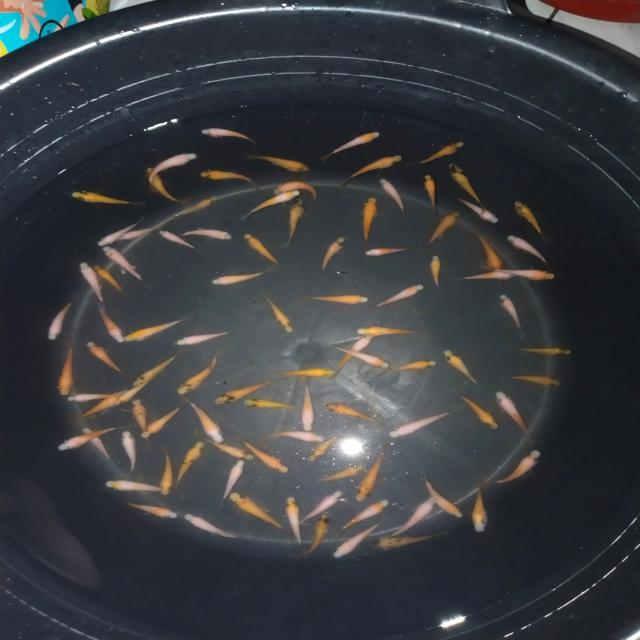nila: (386, 403, 464, 442), (226, 489, 290, 536), (380, 493, 438, 542), (444, 160, 496, 214), (490, 388, 536, 447), (170, 348, 222, 400), (133, 398, 190, 442), (326, 331, 378, 379), (120, 311, 196, 343), (353, 442, 393, 502), (236, 434, 294, 474), (128, 348, 186, 388), (340, 154, 407, 188), (365, 528, 455, 553), (330, 520, 386, 560), (489, 448, 545, 488), (70, 387, 128, 425), (422, 470, 466, 520), (98, 244, 150, 286), (334, 498, 391, 536), (52, 423, 119, 455), (182, 397, 226, 445), (142, 152, 204, 186), (323, 400, 393, 430), (454, 391, 506, 431), (193, 433, 261, 463), (322, 130, 382, 164), (171, 438, 208, 493), (182, 509, 240, 544), (142, 162, 188, 206), (212, 379, 278, 409), (366, 282, 426, 314), (243, 188, 302, 220), (66, 188, 150, 210), (295, 489, 346, 525), (512, 196, 552, 241), (423, 206, 462, 252), (95, 215, 149, 248), (300, 512, 335, 562), (332, 343, 394, 371), (243, 230, 286, 270), (504, 232, 554, 266), (284, 494, 312, 552), (452, 194, 501, 227), (111, 372, 161, 404), (306, 428, 348, 466), (52, 339, 78, 399), (471, 232, 506, 276), (248, 151, 312, 175), (496, 291, 530, 336), (441, 350, 481, 388), (484, 262, 560, 282), (84, 339, 124, 377), (206, 266, 272, 289), (262, 293, 297, 336), (96, 300, 128, 346), (216, 458, 246, 506), (76, 260, 106, 308), (102, 477, 170, 498), (80, 424, 114, 466), (416, 139, 464, 168), (174, 327, 238, 348), (310, 462, 368, 485), (376, 178, 412, 215), (44, 300, 74, 344), (198, 128, 262, 148), (352, 323, 430, 339), (173, 192, 221, 218), (115, 222, 167, 246), (157, 226, 201, 254), (297, 292, 373, 308), (468, 484, 491, 536), (132, 394, 154, 448), (381, 358, 439, 378), (157, 448, 180, 498), (270, 182, 322, 204), (124, 501, 180, 521), (260, 428, 330, 444), (268, 364, 338, 380), (196, 168, 258, 186), (298, 378, 319, 431), (117, 427, 138, 480), (358, 194, 380, 244), (455, 268, 523, 284), (505, 370, 562, 389), (95, 262, 125, 298), (320, 234, 346, 274), (285, 196, 305, 248), (242, 396, 296, 414), (420, 172, 442, 216), (173, 228, 234, 243), (62, 392, 121, 404), (428, 252, 444, 292), (362, 244, 414, 256), (518, 346, 578, 356)
